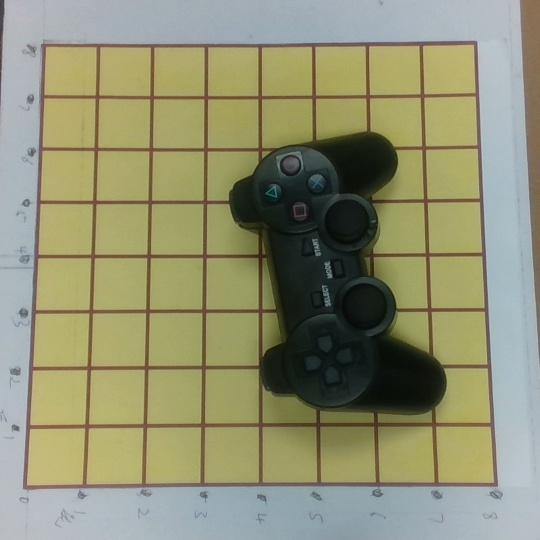remote: (228, 131, 448, 418)
